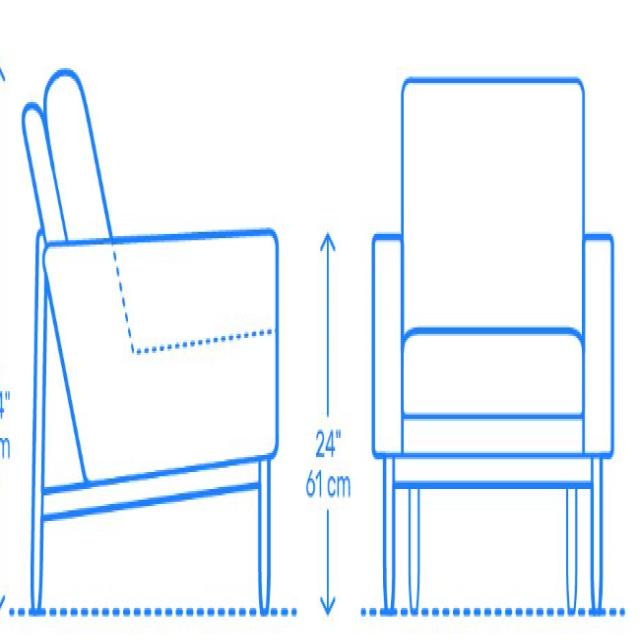Armrest: (31, 216, 285, 497), (366, 220, 409, 469), (577, 223, 619, 466)
Backrest: (396, 63, 589, 350), (13, 43, 120, 255)
Base: (378, 400, 609, 502)
Leg_Structure: (25, 222, 278, 627), (376, 467, 608, 621)
Seat: (396, 318, 589, 427)
